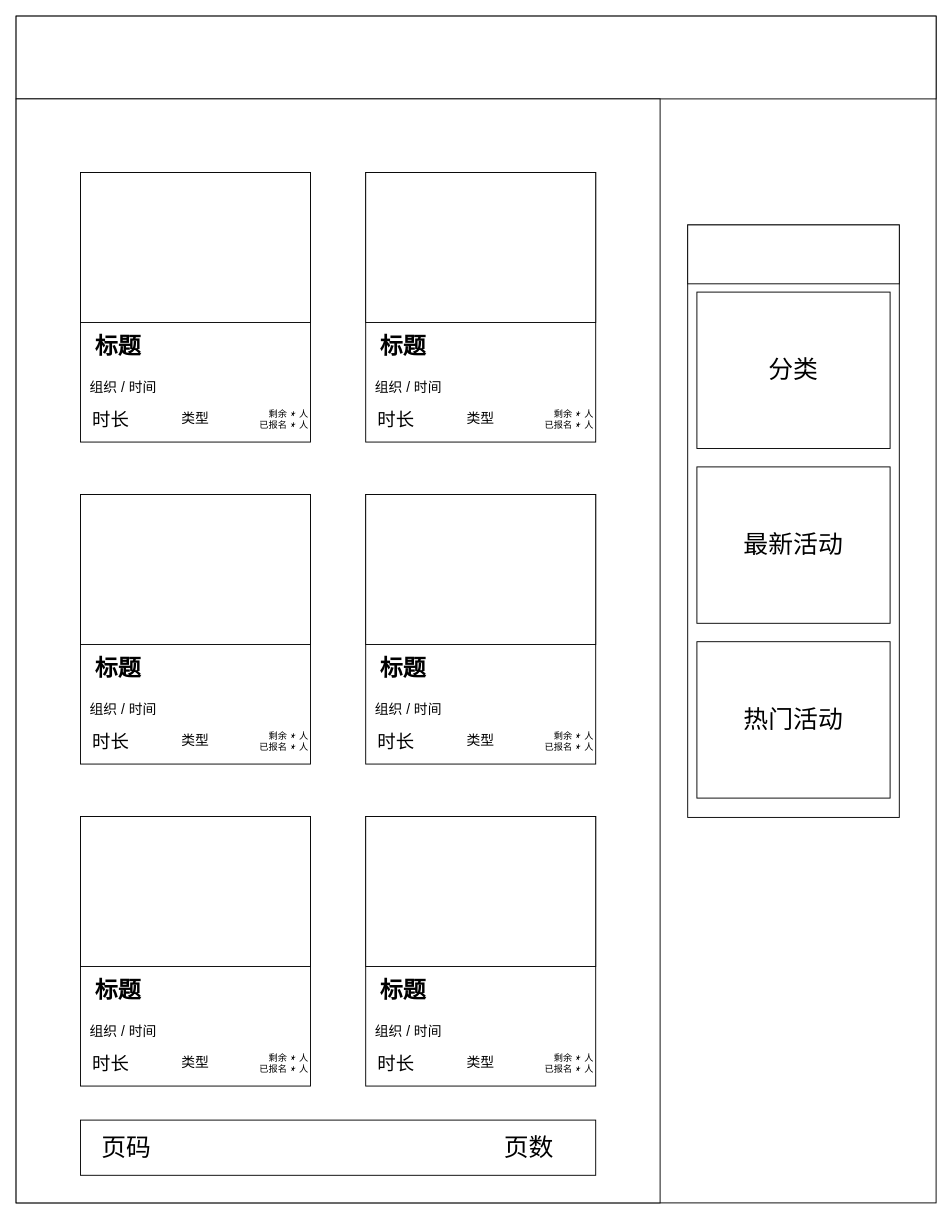
This 952x1219 diagram has some shape labels left out. The shapes that lost their labels are listed below. From the top down, each one's centre as x and y in pixels, then its label:
the point at 475,57: 面包屑
the point at 793,254: 搜索框
